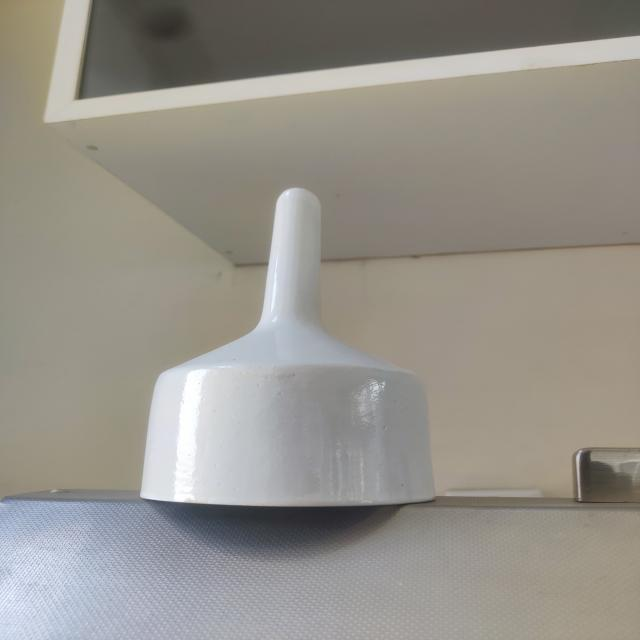Buchner_Funnel: (111, 156, 492, 556)
